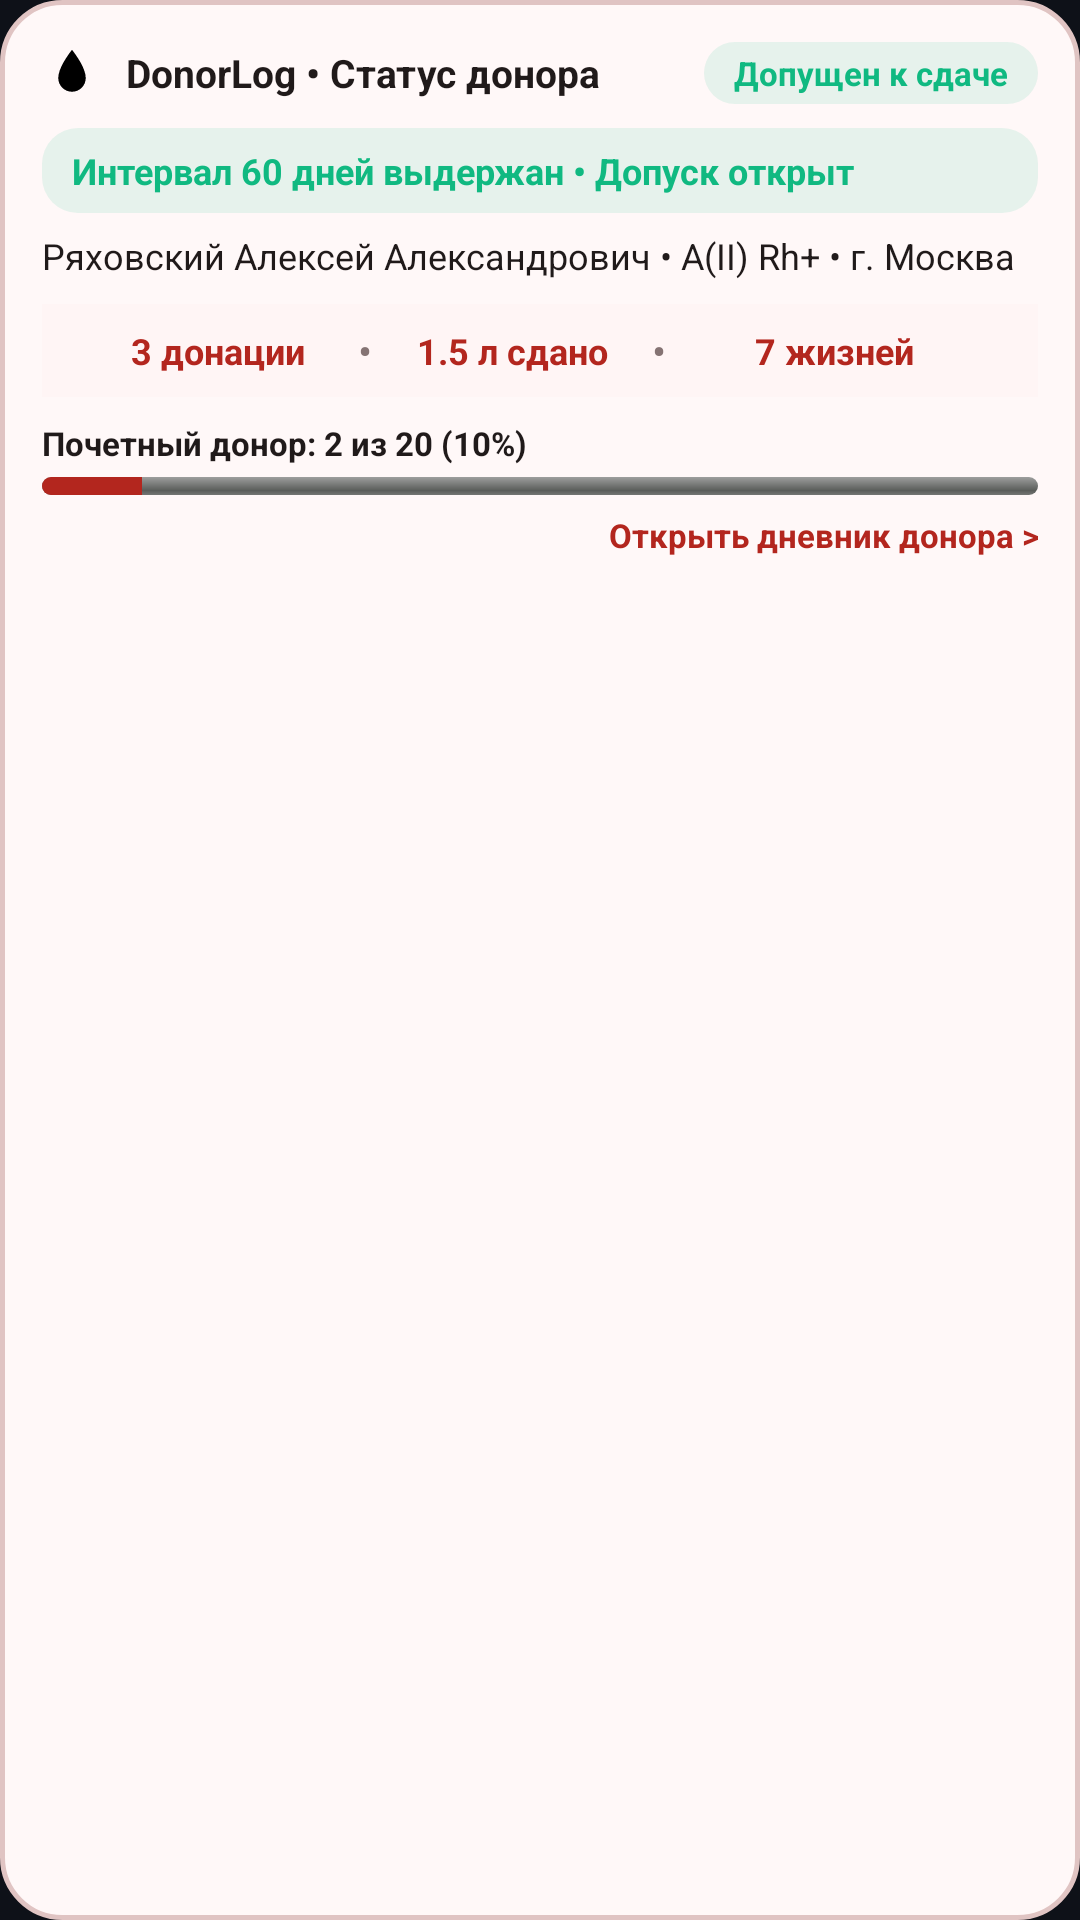

Point at icon controls on the screen. Image size 1080*1920, points as (x=x, y=y).
blood drop: (x=72, y=71)
